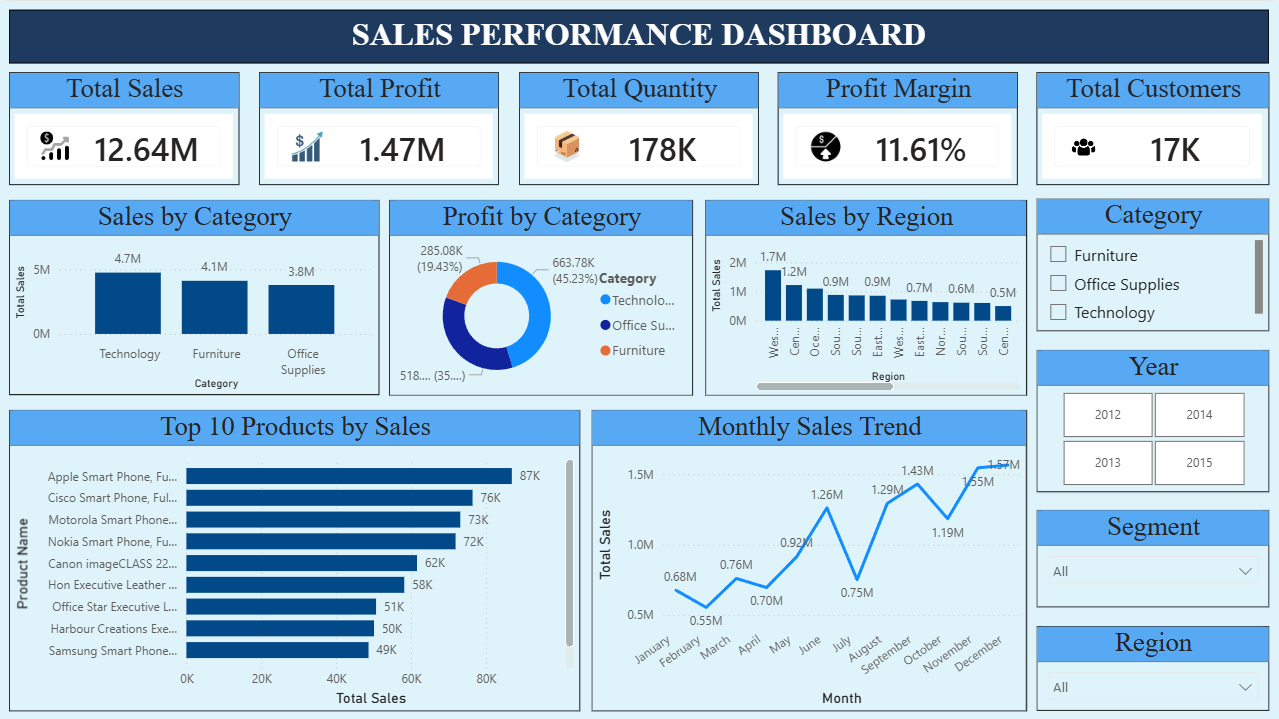

The page's visual inventory and layout, read from the dashboard file:
{"tool":"powerbi","page":{"name":"Page 1","canvas":[1280,720],"ordinal":0},"visuals":[{"type":"cardVisual","title":"Total Sales","fields":{"Data":["Sum(Orders.Sales)"]},"box":[0,61.7,205.8,120.8],"z":0},{"type":"cardVisual","title":"Total Profit","fields":{"Data":["Sum(Orders.Profit)"]},"box":[205.8,61.7,205.8,120.8],"z":1000},{"type":"cardVisual","title":"Total Quantity","fields":{"Data":["Sum(Orders.Quantity)"]},"box":[411.7,61.7,205.8,120.8],"z":2000},{"type":"clusteredColumnChart","title":"Sales by Category","fields":{"Category":["Orders.Category"],"Y":["Sum(Orders.Sales)"]},"box":[0,198.8,380,195],"z":3000},{"type":"clusteredBarChart","title":"Profit by Category","fields":{"Category":["Orders.Category"],"Y":["Sum(Orders.Profit)"]},"box":[390,198.6,304.3,195.7],"z":4000},{"type":"clusteredBarChart","title":"Top 10 Products by Sales","fields":{"Category":["Orders.Product Name"],"Y":["Sum(Orders.Sales)"]},"box":[0,408.6,581.4,311.4],"z":5000},{"type":"clusteredColumnChart","title":"Sales by Region","fields":{"Category":["Orders.Region"],"Y":["Sum(Orders.Sales)"]},"box":[705.7,198.6,321.4,195.7],"z":6000},{"type":"lineChart","title":"Monthly Sales Trend","fields":{"Category":["Orders.Order Date.Variation.Date Hierarchy.Month"],"Y":["Sum(Orders.Sales)"]},"box":[592.9,408.6,434.3,311.4],"z":7000},{"type":"slicer","title":"Category","fields":{"Values":["Orders.Category"]},"box":[1037.4,306,242.9,131.7],"z":8000},{"type":"slicer","title":"Region","fields":{"Values":["Orders.Region"]},"box":[1037.4,635.3,242.9,85.1],"z":9000},{"type":"slicer","title":"Year","fields":{"Values":["Orders.Order Date.Variation.Date Hierarchy.Year"]},"box":[1037.4,446,242.9,85.1],"z":10000},{"type":"textbox","box":[0,0,1280,55.7],"z":11000},{"type":"cardVisual","title":"Profit Margin","fields":{"Data":["Orders.Profit Margin %"]},"box":[617.5,61.7,205.8,120.8],"z":12000},{"type":"cardVisual","title":"Total Customers","fields":{"Data":["Orders.Total Customers"]},"box":[823.3,61.7,205.8,120.8],"z":13000},{"type":"slicer","title":"Segment","fields":{"Values":["Orders.Segment"]},"box":[1037.4,540.7,242.9,85.1],"z":14000},{"type":"textbox","title":"Key Insights","box":[1037.4,61.7,242.9,234.6],"z":15000}]}

Visuals, with their boxes in screenshot pixels (x1, y1, x2, y2), scaled from the page's 1280x720 canvas onto the 1279x719 screenshot:
"Total Sales" cardVisual: <region>0, 62, 206, 182</region>
"Total Profit" cardVisual: <region>206, 62, 411, 182</region>
"Total Quantity" cardVisual: <region>411, 62, 617, 182</region>
"Sales by Category" clusteredColumnChart: <region>0, 199, 380, 393</region>
"Profit by Category" clusteredBarChart: <region>390, 198, 694, 394</region>
"Top 10 Products by Sales" clusteredBarChart: <region>0, 408, 581, 718</region>
"Sales by Region" clusteredColumnChart: <region>705, 198, 1026, 394</region>
"Monthly Sales Trend" lineChart: <region>592, 408, 1026, 718</region>
"Category" slicer: <region>1037, 306, 1278, 437</region>
"Region" slicer: <region>1037, 634, 1278, 718</region>
"Year" slicer: <region>1037, 445, 1278, 530</region>
textbox: <region>0, 0, 1278, 56</region>
"Profit Margin" cardVisual: <region>617, 62, 823, 182</region>
"Total Customers" cardVisual: <region>823, 62, 1028, 182</region>
"Segment" slicer: <region>1037, 540, 1278, 625</region>
"Key Insights" textbox: <region>1037, 62, 1278, 296</region>
